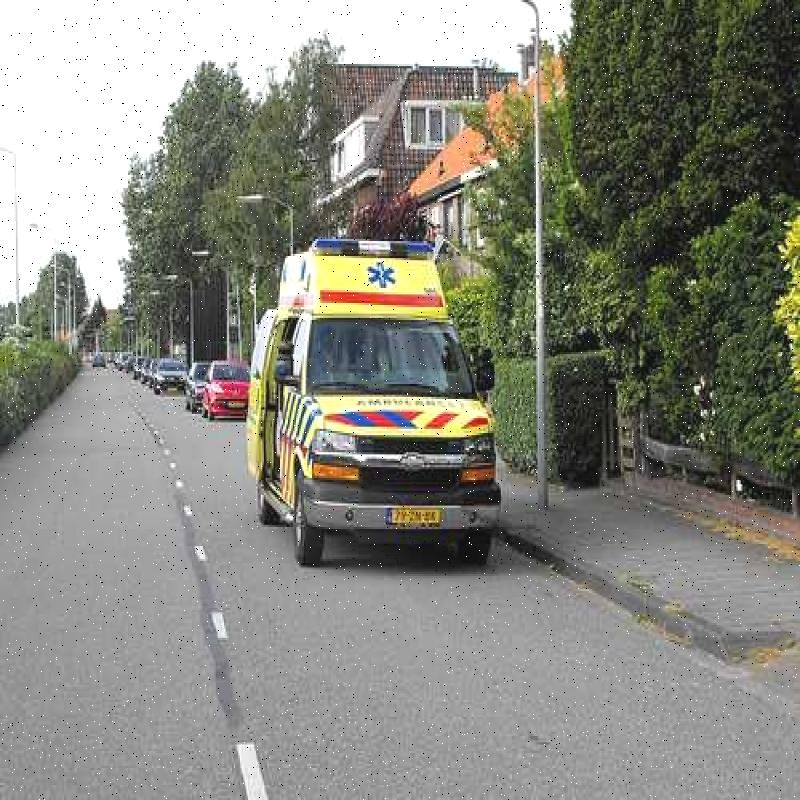AmbulanceSiren: (296, 216, 451, 271)
